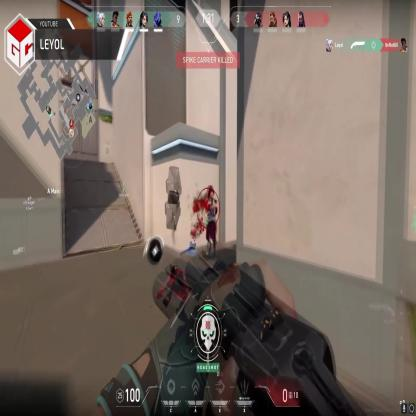enemy: (206, 186, 218, 258)
enemy_head: (209, 188, 214, 199)
